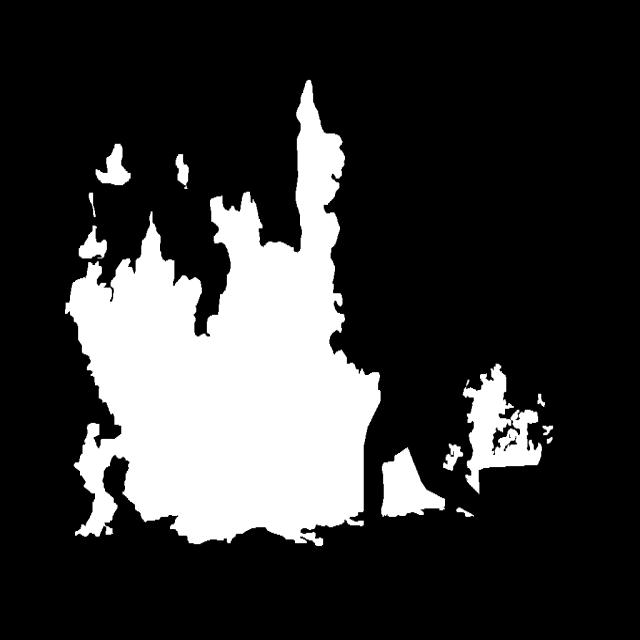fire: (31, 129, 571, 534)
